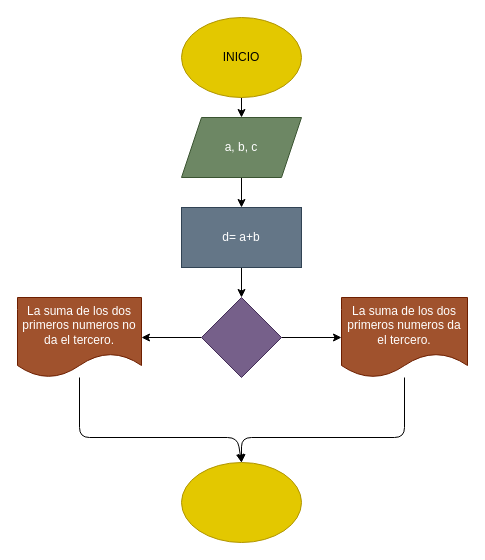
The diagram is 485 pixels wide and 560 high, and some of its shapes have lost their labels. Here are the shapes that lost their labels. From the top down, the box of each, then its label:
(200, 296, 282, 378): d==C
(180, 462, 302, 542): FIN
